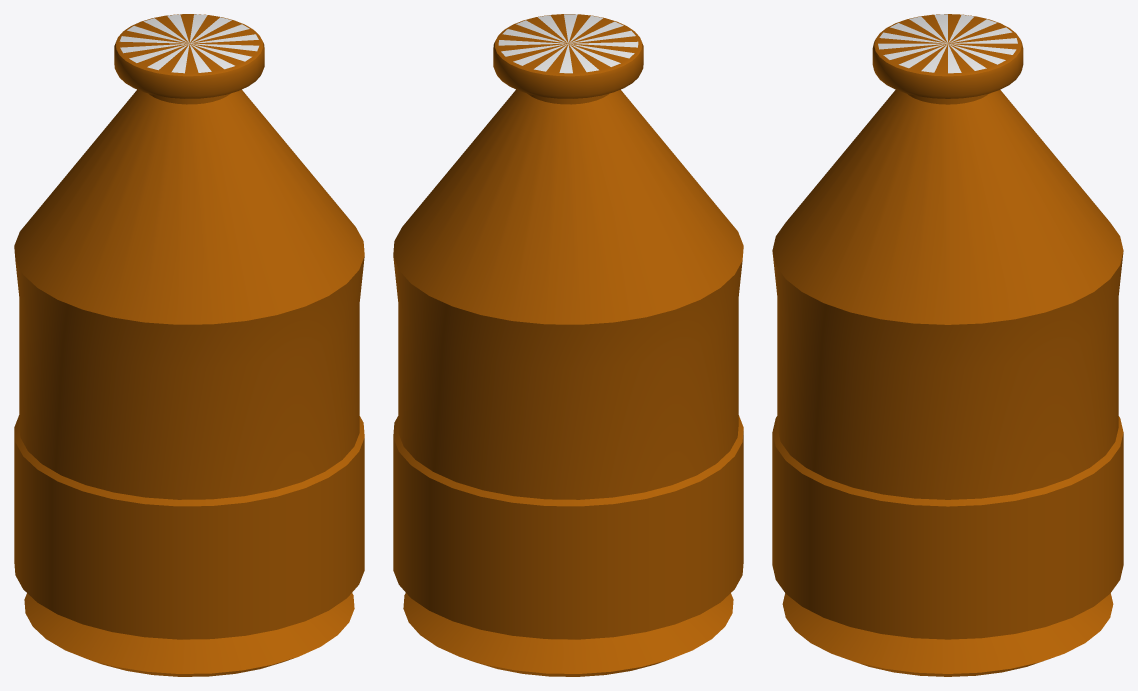
The model's file is bottle20.glb.
The picture shows the model from 3 angles, left to right: view 1: azimuth 30°, elevation 25°; view 2: azimuth 150°, elevation 25°; view 3: azimuth 270°, elevation 25°; orthographic projection.
Parts seen in each view (by area): view 1: Bottle20; view 2: Bottle20; view 3: Bottle20.
Part boxes in pixels (bbox=[...]): Bottle20: bbox=[14, 14, 364, 676]; Bottle20: bbox=[393, 14, 743, 676]; Bottle20: bbox=[772, 14, 1123, 676].
Size of the model in its own units: 3.17 by 5.7 by 3.17.
